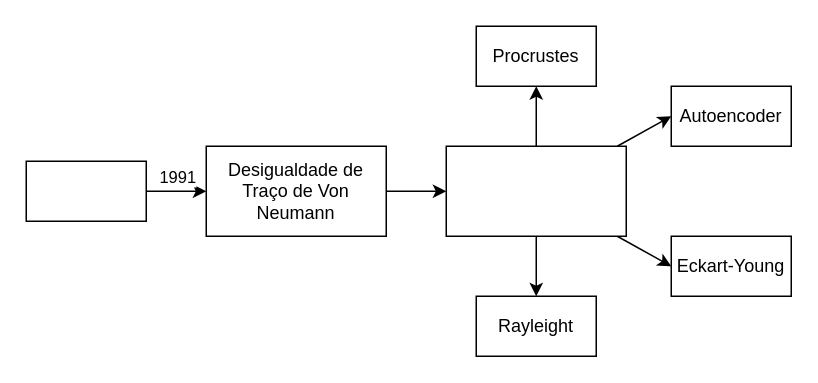
This 818x383 diagram has some shape labels left out. Each missing label, with the centre of its shape:
"Cauchy-Schwarz" belongs at (x=85, y=190).
"Teorema de Traço de Von Neumann (argmax)" belongs at (x=535, y=190).
